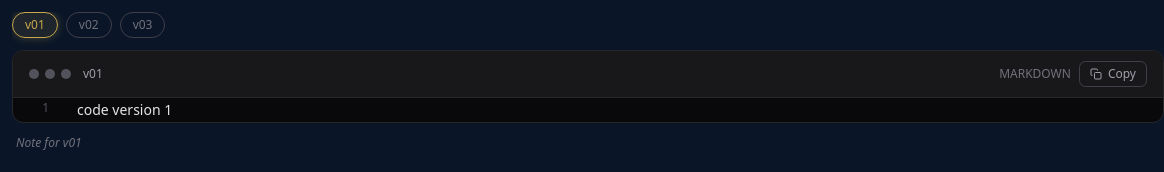
it: PromptCodeBlock › updates notes when switching versions
Click the button "v02": (89, 25) [66, 12, 112, 38]
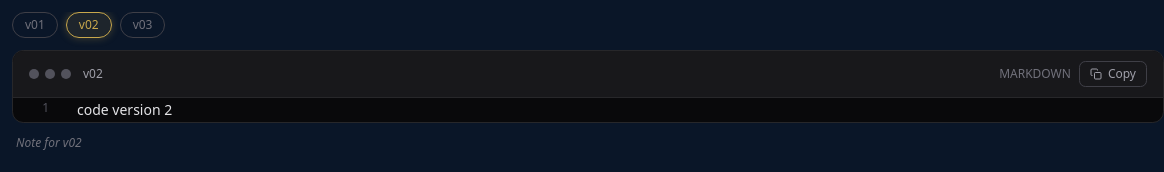
Check: the text "Note for v02" is shown, box [16, 134, 82, 151]
